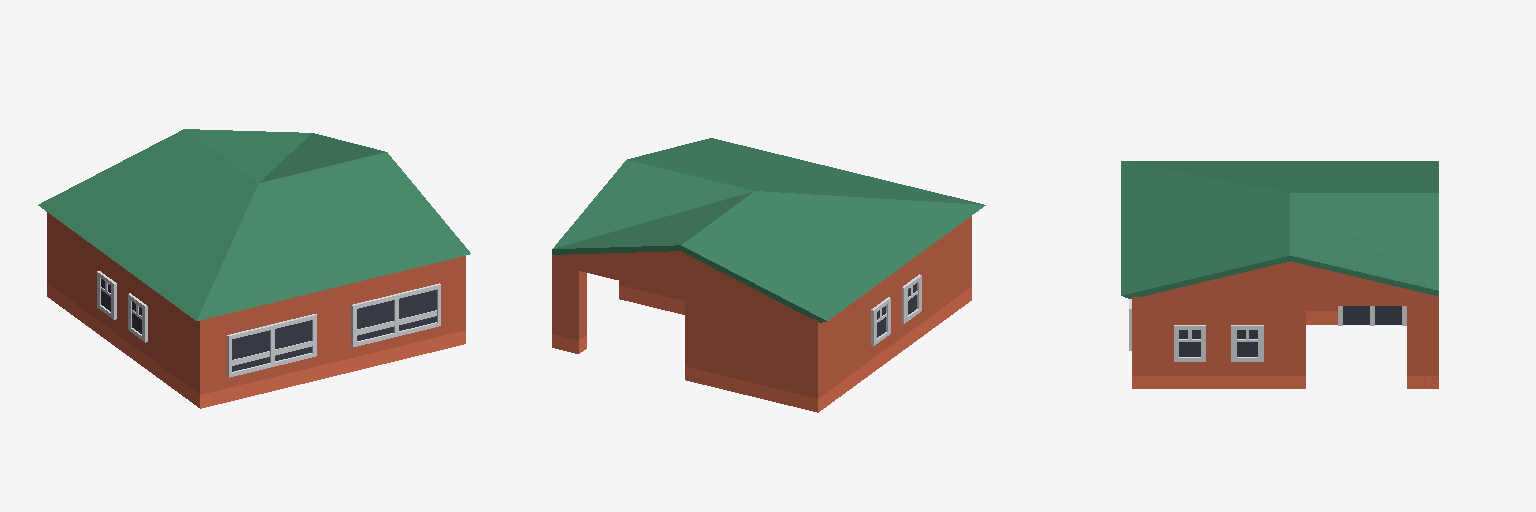
3 views of the same model, side by side, from view 1: azimuth 30°, elevation 25°; view 2: azimuth 150°, elevation 25°; view 3: azimuth 270°, elevation 25° (orthographic).
Visible parts, largest first — view 1: roof_corner_39, block_37, block_columns_35, window_width_48, window_width_47, block_41, window_detail_double_49; view 2: roof_corner_39, block_columns_35, block_37, block_41, window_detail_double_49; view 3: roof_corner_39, block_37, block_41, block_columns_35, window_detail_double_46, columns_42, door_rounded_wide_43.
Boxes of the visible parts, <box> form: roof_corner_39: <box>38,129,470,320</box>; block_37: <box>149,256,465,408</box>; block_columns_35: <box>47,212,123,352</box>; window_width_48: <box>227,314,316,377</box>; window_width_47: <box>351,283,440,346</box>; block_41: <box>113,264,148,370</box>; window_detail_double_49: <box>97,271,147,342</box>; roof_corner_39: <box>552,138,985,322</box>; block_columns_35: <box>552,255,894,412</box>; block_37: <box>921,216,971,336</box>; block_41: <box>619,253,920,362</box>; window_detail_double_49: <box>871,274,921,346</box>; roof_corner_39: <box>1121,161,1438,298</box>; block_37: <box>1132,297,1233,388</box>; block_41: <box>1234,297,1305,388</box>; block_columns_35: <box>1306,297,1438,388</box>; window_detail_double_46: <box>1174,325,1263,361</box>; columns_42: <box>1214,297,1428,388</box>; door_rounded_wide_43: <box>1338,306,1406,325</box>.
Size of the model in its own units: 3.13 by 1.44 by 3.1.